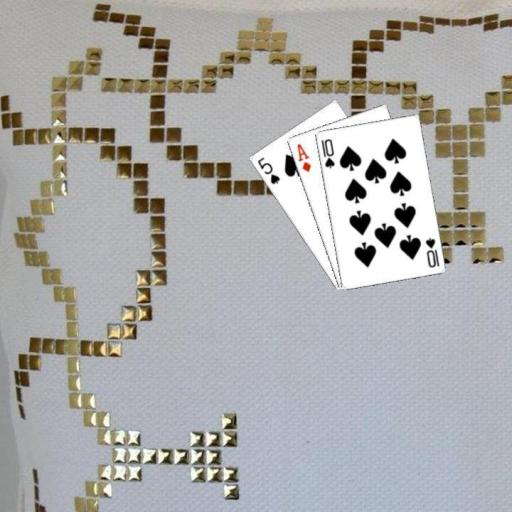card-corner: (254, 154, 281, 186), (422, 234, 440, 269), (294, 140, 312, 174), (318, 135, 336, 169)
